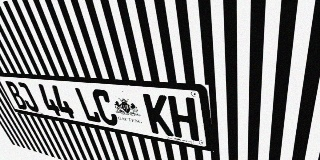4: (48, 85, 76, 119), (35, 84, 62, 116)
B: (4, 81, 29, 110)
C: (90, 89, 120, 127)
H: (167, 96, 199, 141)
J: (15, 82, 40, 112)
K: (143, 93, 174, 137)
L: (73, 87, 102, 124)
